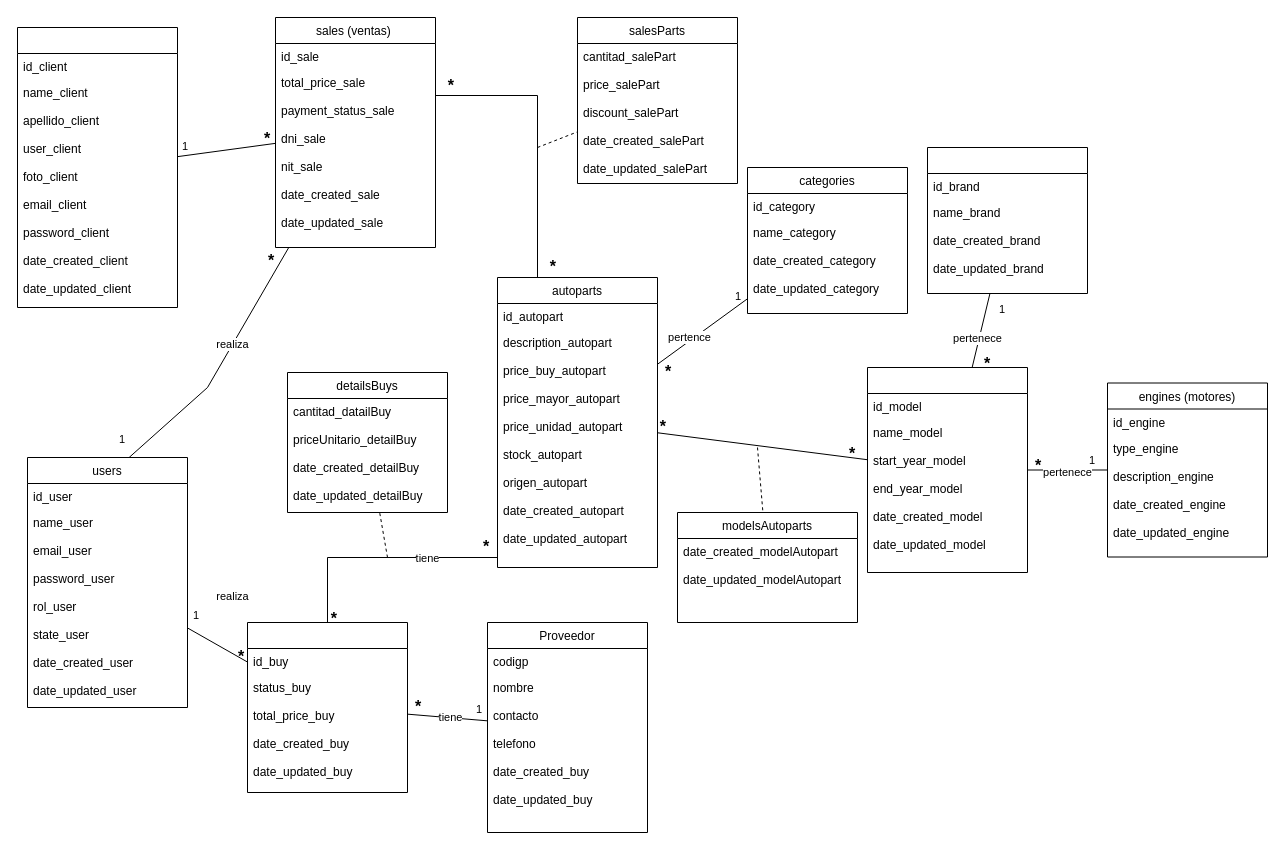
The diagram is 1285 pixels wide and 850 high, and some of its shapes have lost their labels. Each missing label, with the box of its shape:
brands (marcas): (926, 146, 1088, 294)
buys(compras): (246, 622, 408, 792)
clientes: (16, 26, 178, 308)
models: (866, 366, 1028, 572)
